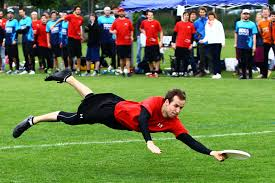disc: (216, 150, 254, 161)
